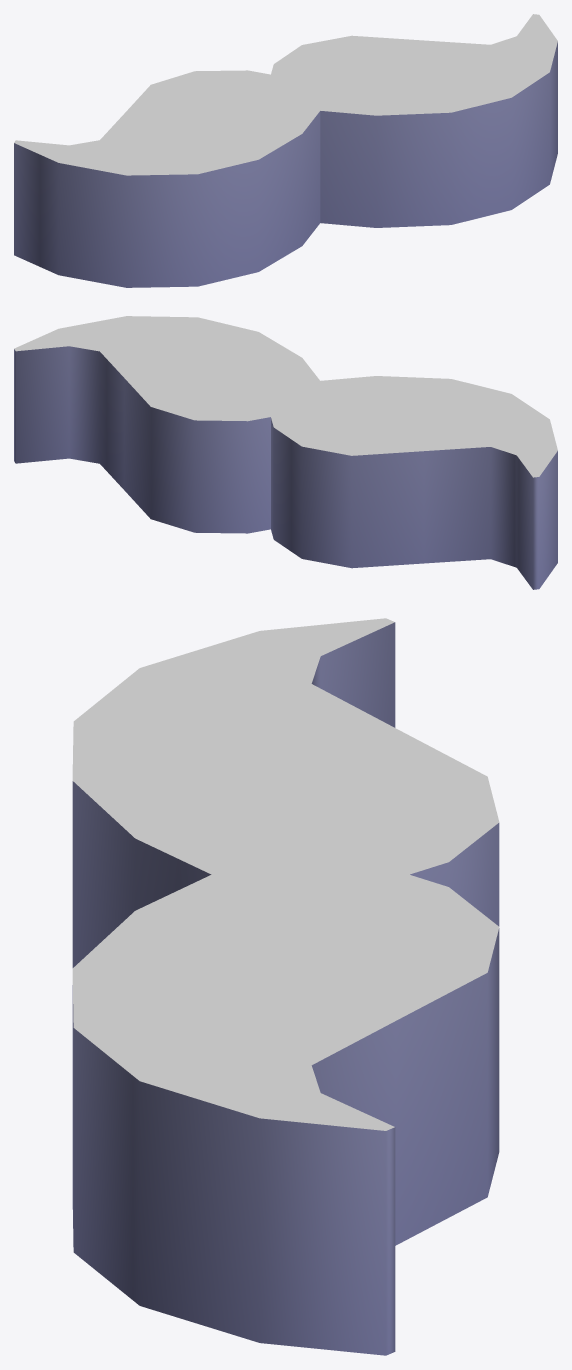
The model's file is moustache_0.glb.
3 renders of one model, top to bottom at view 1: azimuth 30°, elevation 25°; view 2: azimuth 150°, elevation 25°; view 3: azimuth 270°, elevation 25°, orthographic. The views are drawn at different scales.
Parts seen in each view (by area): view 1: moustache; view 2: moustache; view 3: moustache.
Boxes of the visible parts, bbox=[...] form: moustache: bbox=[14, 14, 557, 287]; moustache: bbox=[14, 316, 557, 589]; moustache: bbox=[72, 618, 499, 1355].
Bounding box in the file's own units: 0.3059 × 0.0625 × 0.1076.
